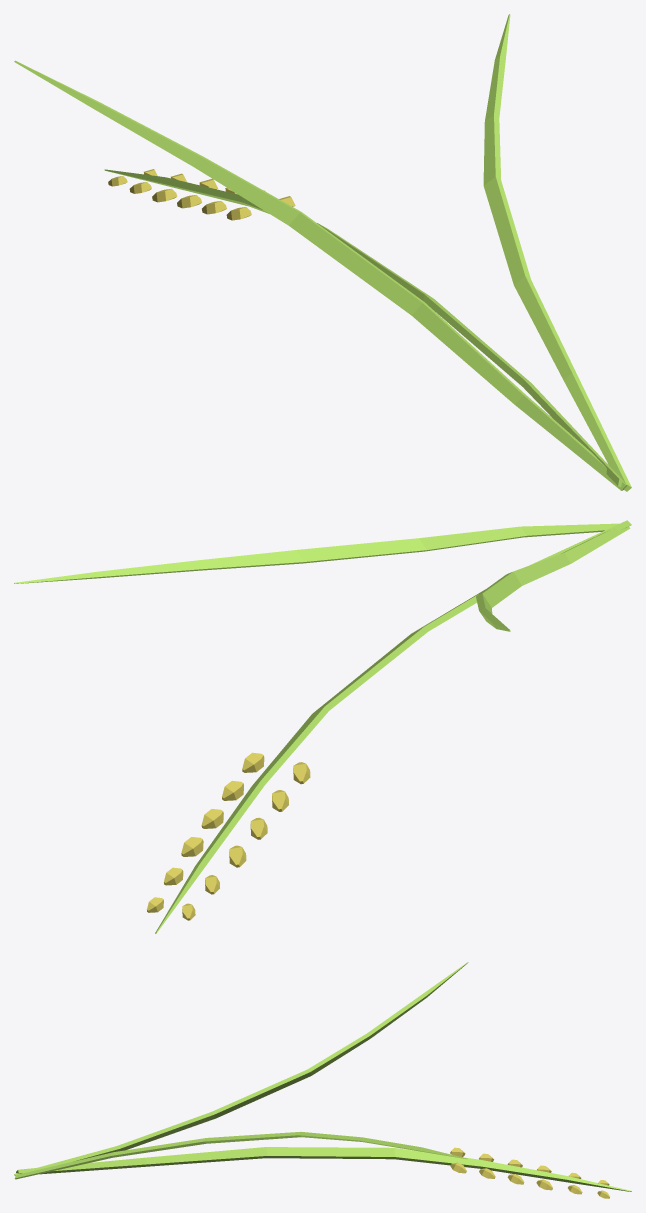
Rendered from RicePlant_v003(UV_Unwrapped).fbx.
3 renders of one model, top to bottom at view 1: azimuth 30°, elevation 25°; view 2: azimuth 150°, elevation 25°; view 3: azimuth 270°, elevation 25°, orthographic. The views are drawn at different scales.
Visible parts, largest first — view 1: RiceSeeds; view 2: RiceSeeds; view 3: RiceSeeds.
Boxes of the visible parts, box(x1,y1,x2,y2) form: RiceSeeds: box(14, 14, 631, 491); RiceSeeds: box(14, 520, 631, 933); RiceSeeds: box(14, 962, 631, 1198).
Bounding box in the file's own units: 130 × 65.23 × 225.
